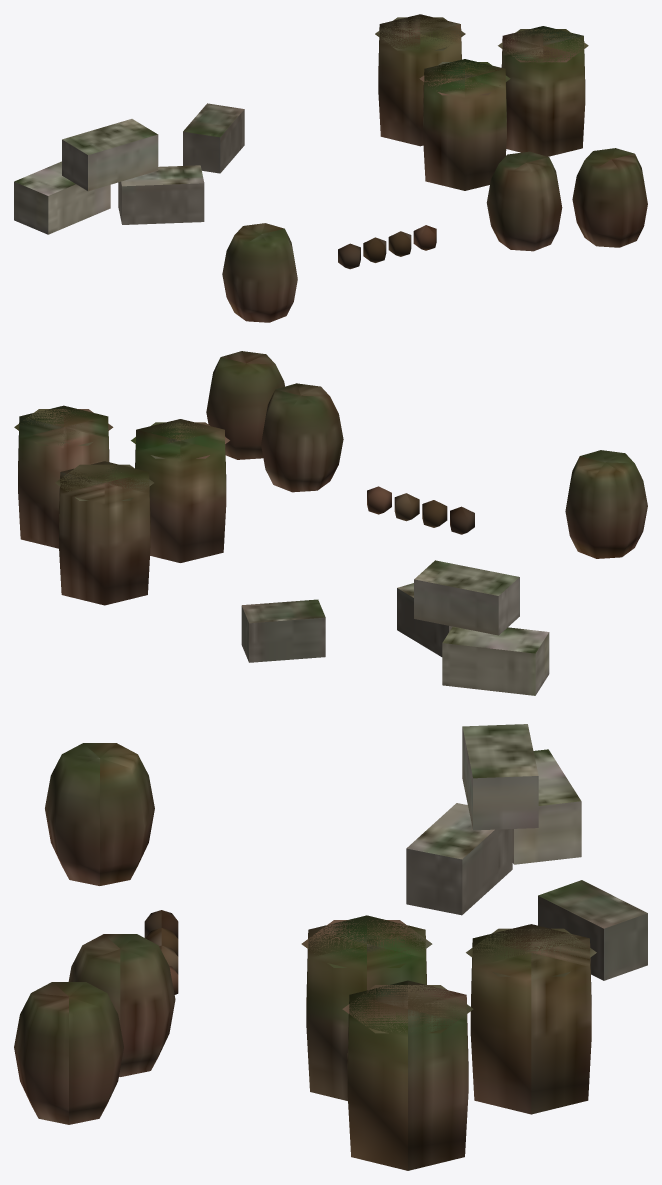
Rendered from starfort_loose_props_far.glb.
The picture shows the model from 3 angles, top to bottom: view 1: azimuth 30°, elevation 25°; view 2: azimuth 150°, elevation 25°; view 3: azimuth 270°, elevation 25°; orthographic projection. The views are drawn at different scales.
Visible parts, largest first — view 1: gabion_03, gabion_02, gabion_01, barrel_03, barrel_02, barrel_01, stone_block_03, stone_block_02, stone_block_01, stone_block_04, cannonballs; view 2: gabion_01, gabion_03, gabion_02, barrel_01, barrel_03, stone_block_01, stone_block_03, barrel_02, stone_block_04, cannonballs, stone_block_02; view 3: gabion_02, gabion_01, barrel_03, barrel_02, gabion_03, barrel_01, stone_block_02, stone_block_03, stone_block_04, stone_block_01, cannonballs.
Part boxes in pixels (box(x1,y1,x2,y2)): gabion_03: box(419, 59, 510, 190); gabion_02: box(498, 26, 588, 156); gabion_01: box(375, 14, 465, 146); barrel_03: box(222, 223, 297, 322); barrel_02: box(572, 148, 647, 247); barrel_01: box(486, 151, 562, 251); stone_block_03: box(62, 119, 158, 191); stone_block_02: box(118, 165, 204, 224); stone_block_01: box(14, 161, 110, 234); stone_block_04: box(183, 103, 244, 173); cannonballs: box(338, 225, 436, 269); gabion_01: box(55, 461, 153, 605); gabion_03: box(131, 419, 229, 562); gabion_02: box(14, 405, 113, 548); barrel_01: box(261, 383, 343, 492); barrel_03: box(565, 450, 647, 558); stone_block_01: box(442, 626, 549, 695); stone_block_03: box(414, 560, 519, 635); barrel_02: box(206, 351, 284, 459); stone_block_04: box(241, 599, 325, 662); cannonballs: box(367, 486, 474, 534); stone_block_02: box(397, 583, 452, 656); gabion_02: box(342, 980, 473, 1170); gabion_01: box(466, 924, 596, 1114); barrel_03: box(45, 743, 154, 885); barrel_02: box(14, 982, 123, 1124); gabion_03: box(301, 915, 432, 1100); barrel_01: box(68, 934, 175, 1076); stone_block_02: box(406, 803, 512, 915); stone_block_03: box(462, 724, 538, 830); stone_block_04: box(538, 880, 647, 980); stone_block_01: box(512, 749, 581, 864); cannonballs: box(144, 910, 178, 994).
Size of what is drawn, in the model's own units: 4.23 by 0.72 by 3.09.
1 material, 1 textured.
